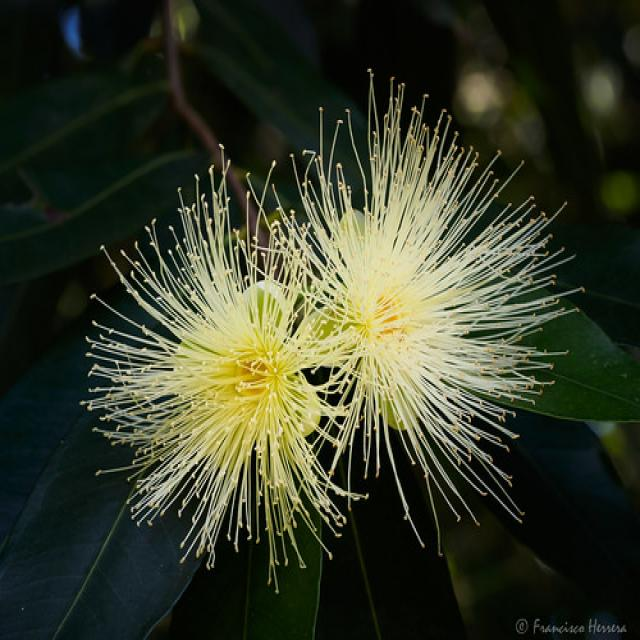Medicinal-Rose Apple: (5, 3, 640, 611)
